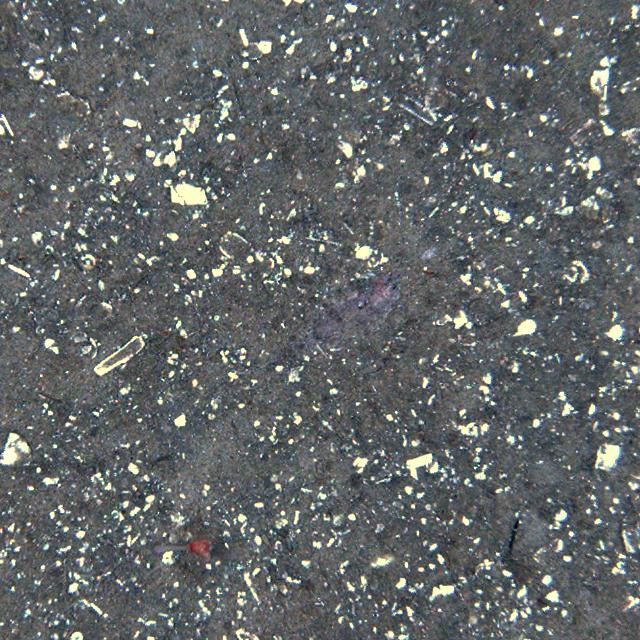flatfish: (270, 274, 401, 362)
